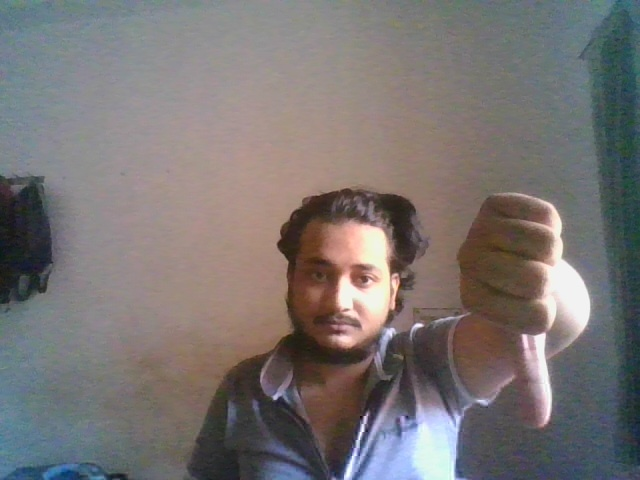ThumbsDown: (456, 190, 564, 431)
